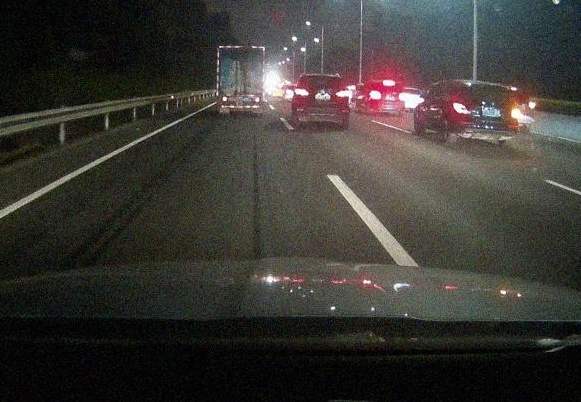L_light: (453, 103, 471, 114), (294, 88, 309, 96), (370, 92, 381, 98), (222, 96, 227, 101)
R_light: (510, 108, 519, 119), (335, 90, 349, 97), (399, 93, 405, 100), (255, 97, 260, 102)
T_light: (383, 82, 394, 86), (317, 76, 327, 79), (484, 87, 496, 89), (236, 48, 244, 49)
night-brake: (369, 81, 405, 116)
night-no: (217, 46, 265, 117), (292, 75, 350, 129)
night-right: (451, 82, 519, 149)
